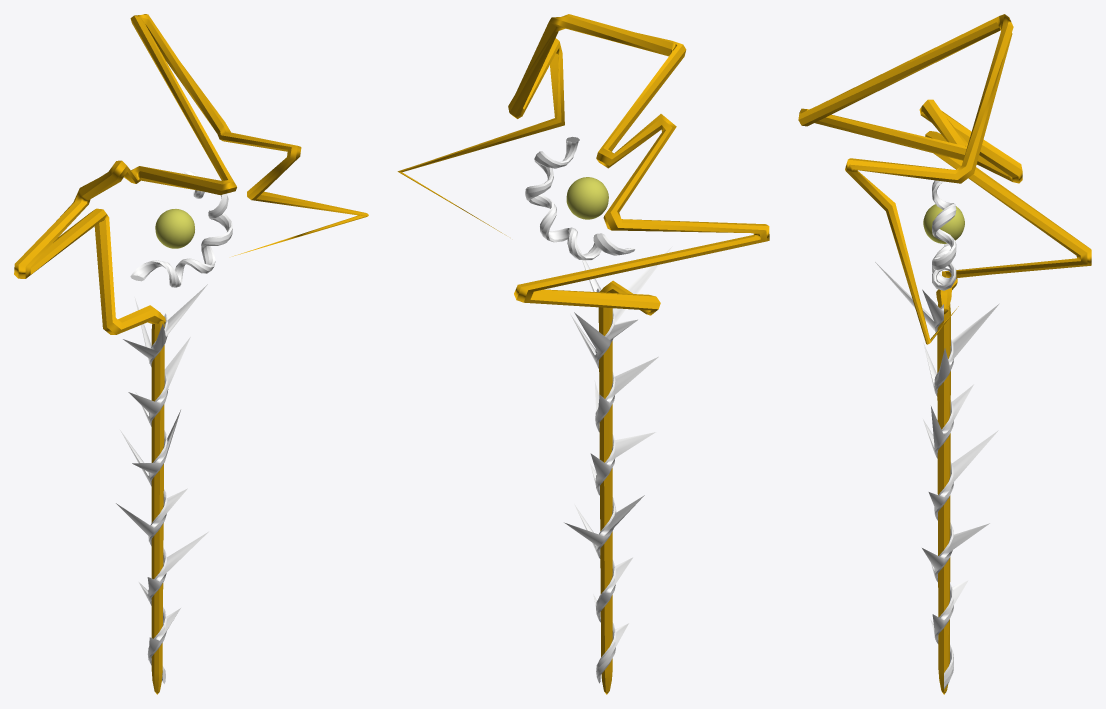
The model's file is wand_lightning.obj.
The picture shows the model from 3 angles, left to right: view 1: azimuth 30°, elevation 25°; view 2: azimuth 150°, elevation 25°; view 3: azimuth 270°, elevation 25°; orthographic projection. The views are drawn at different scales.
Bounding box in the file's own units: 4.65 × 8.32 × 3.23.
